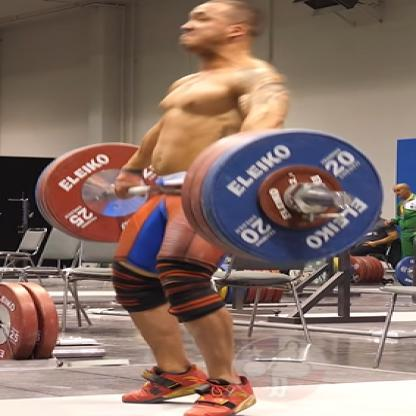Barbell: (329, 189, 356, 212)
